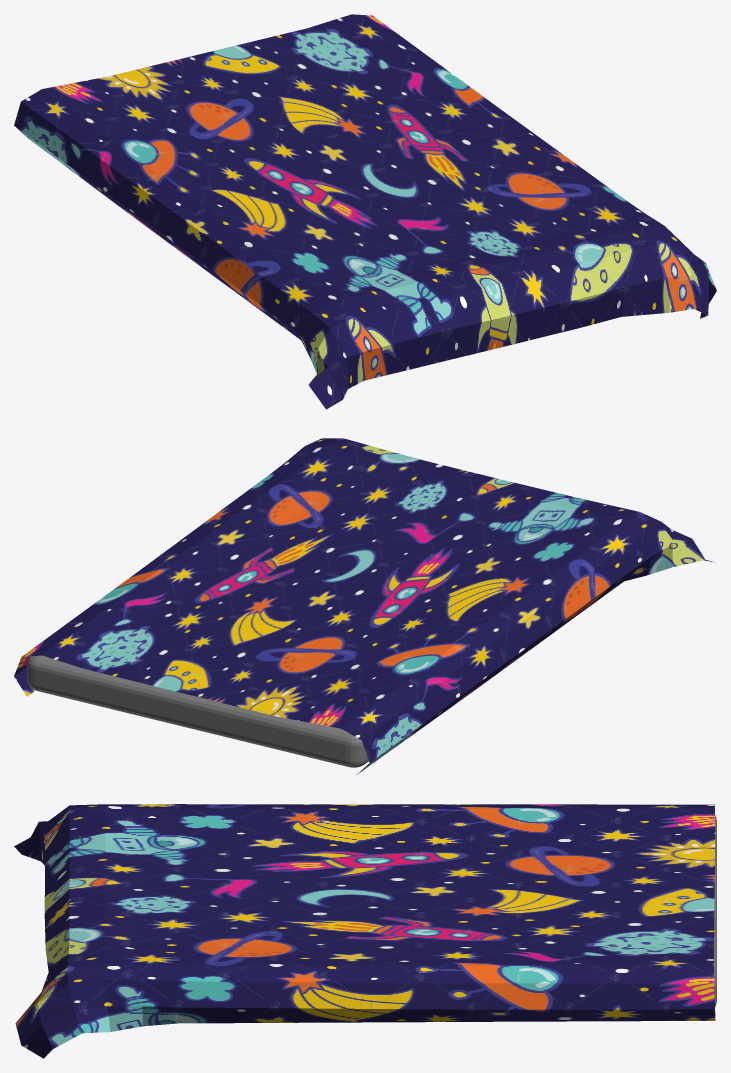
File: bedding.obj
The picture shows the model from 3 angles, top to bottom: view 1: azimuth 30°, elevation 25°; view 2: azimuth 150°, elevation 25°; view 3: azimuth 270°, elevation 25°; orthographic projection. The views are drawn at different scales.
Visible parts, largest first — view 1: bed Bed:Plane; view 2: bed Bed:Plane, Bed:Cube_1 bed; view 3: bed Bed:Plane, Bed:Cube_1 bed.
Part boxes in pixels (x1,y1,x2,y2): bed Bed:Plane: [14, 14, 716, 409]; bed Bed:Plane: [14, 438, 715, 774]; Bed:Cube_1 bed: [27, 655, 368, 767]; bed Bed:Plane: [14, 804, 715, 1058]; Bed:Cube_1 bed: [714, 815, 716, 1006].
Bounding box in the file's own units: 10.48 × 1.9 × 14.71.
2 materials, 1 textured.
